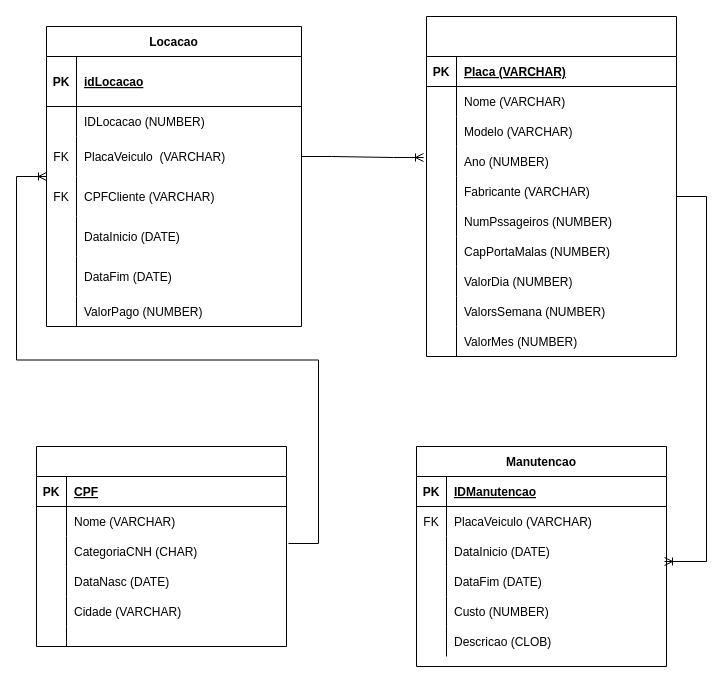
Image size: 723x683. Some labels were removed from this diagram. Here are the shapes that lost their labels. From the top down, the box of each, then its label:
(426, 16, 676, 356): Veiculo
(36, 446, 286, 646): Cliente
